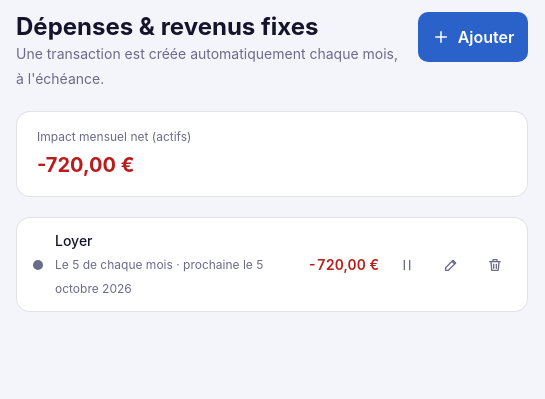
Test: RecurringPage — pause › affiche l'erreur si la bascule échoue
The image size is (545, 399).
Click the button named "Mettre en pause Loyer".
click(407, 264)  # box [391, 248, 423, 280]
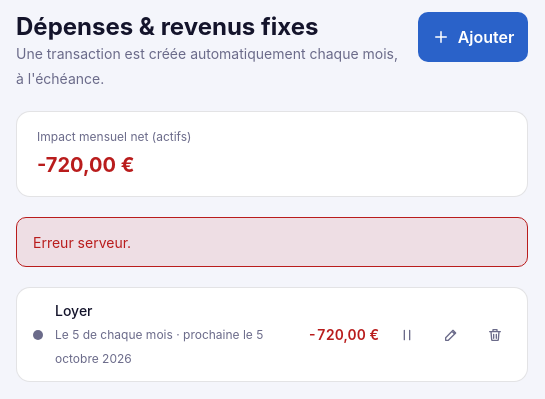
Expected: the message "Erreur serveur." is shown, [16, 217, 528, 267]
